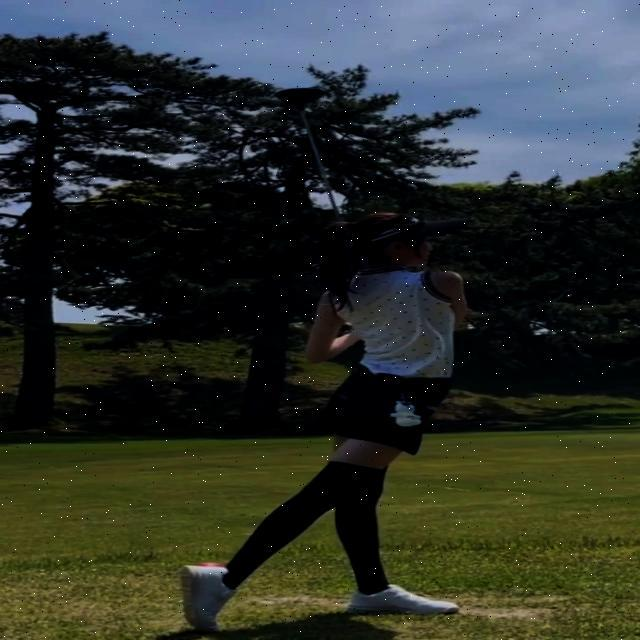golf club-handle: (270, 84, 362, 275)
golf club-head: (274, 88, 332, 105)
